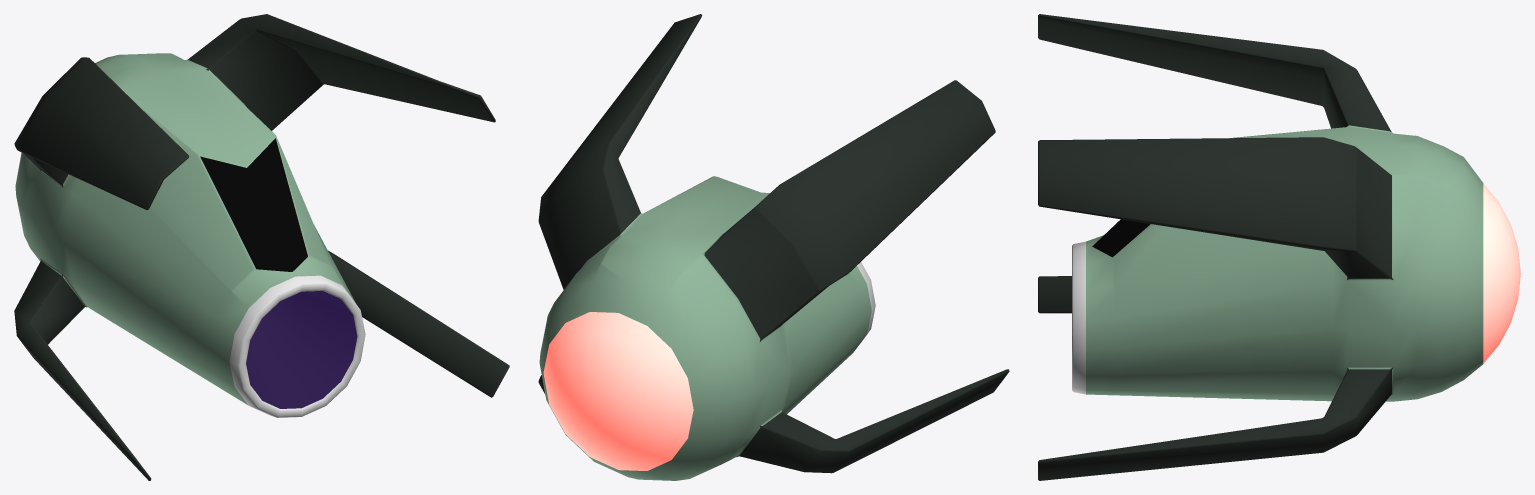
File: BossShip.fbx
3 renders of one model, left to right at view 1: azimuth 30°, elevation 25°; view 2: azimuth 150°, elevation 25°; view 3: azimuth 270°, elevation 25°, orthographic. The views are drawn at different scales.
Parts seen in each view (by area): view 1: Sphere; view 2: Sphere; view 3: Sphere.
Part boxes in pixels (bbox=[...]): Sphere: bbox=[14, 14, 509, 480]; Sphere: bbox=[538, 14, 1009, 480]; Sphere: bbox=[1038, 14, 1520, 480].
Bounding box in the file's own units: 341 × 277 × 376.
